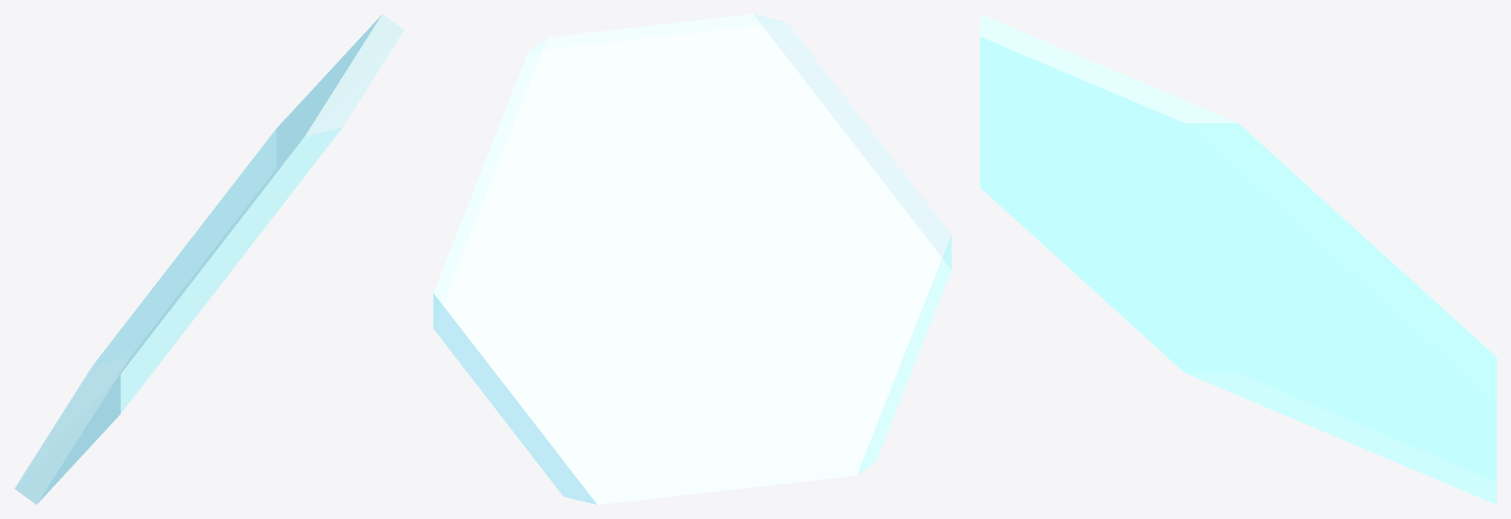
3 views of the same model, side by side, from view 1: azimuth 30°, elevation 25°; view 2: azimuth 150°, elevation 25°; view 3: azimuth 270°, elevation 25° (orthographic). The views are drawn at different scales.
Parts seen in each view (by area): view 1: Part_Glass; view 2: Part_Glass; view 3: Part_Glass.
Boxes of the visible parts, x1,y1,x2,y2 form: Part_Glass: [14, 14, 404, 504]; Part_Glass: [433, 14, 951, 504]; Part_Glass: [980, 14, 1496, 504].
Bounding box in the file's own units: 1 × 1 × 1.
